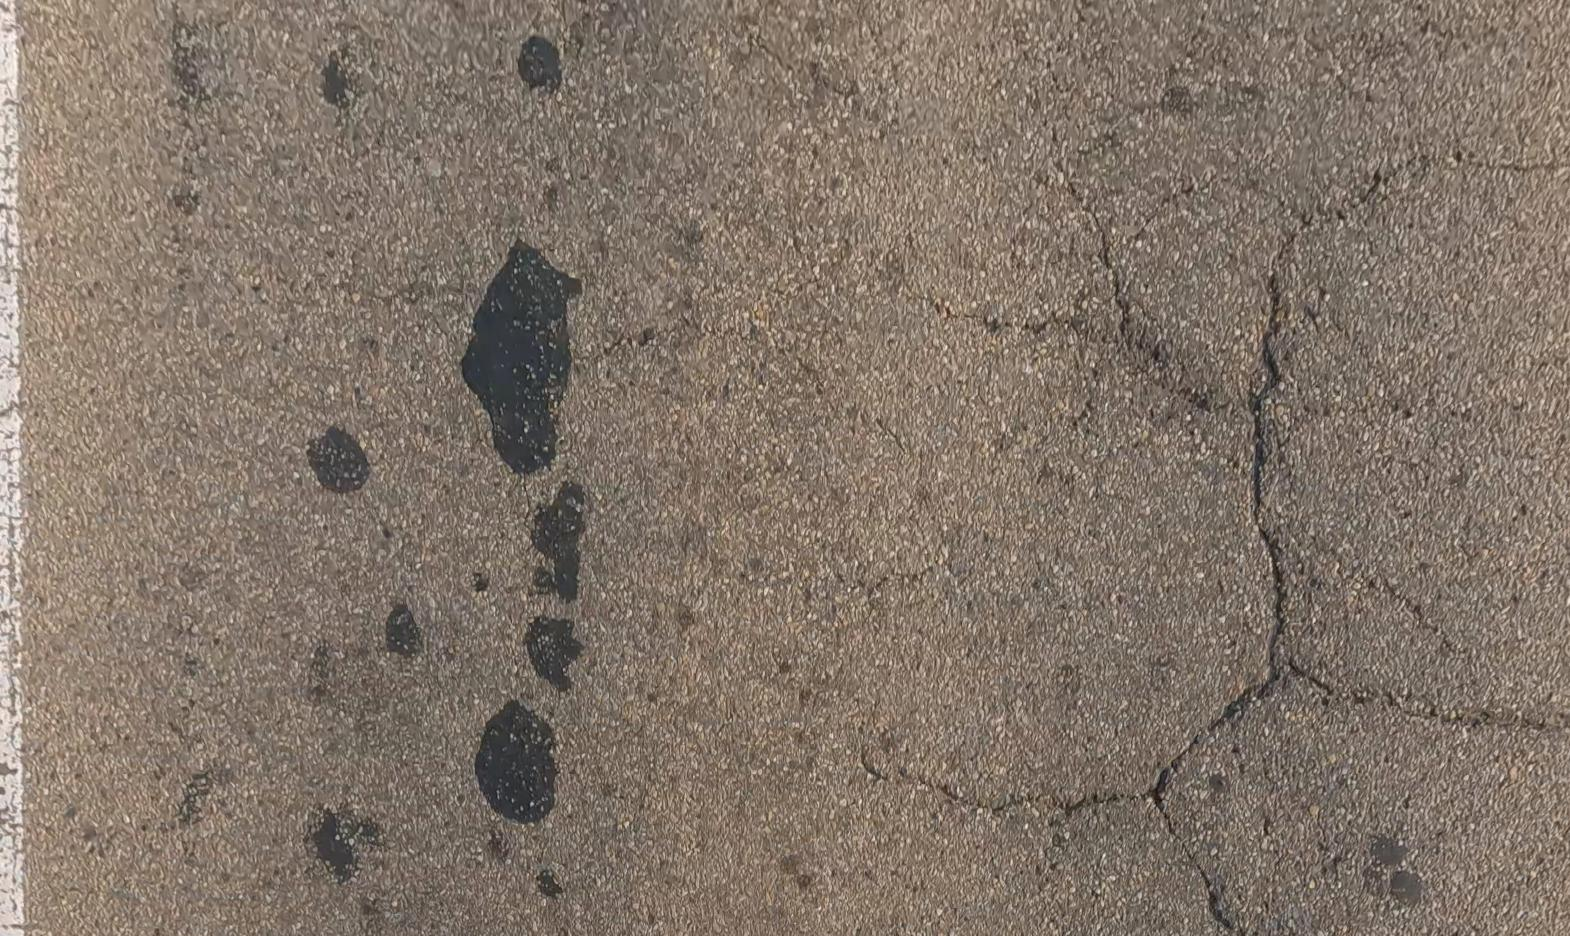pothole_patch_good: (460, 240, 581, 472), (471, 701, 568, 826), (525, 472, 588, 603), (518, 618, 593, 698), (304, 421, 381, 486), (313, 793, 365, 872), (517, 32, 564, 98), (383, 604, 425, 662)
